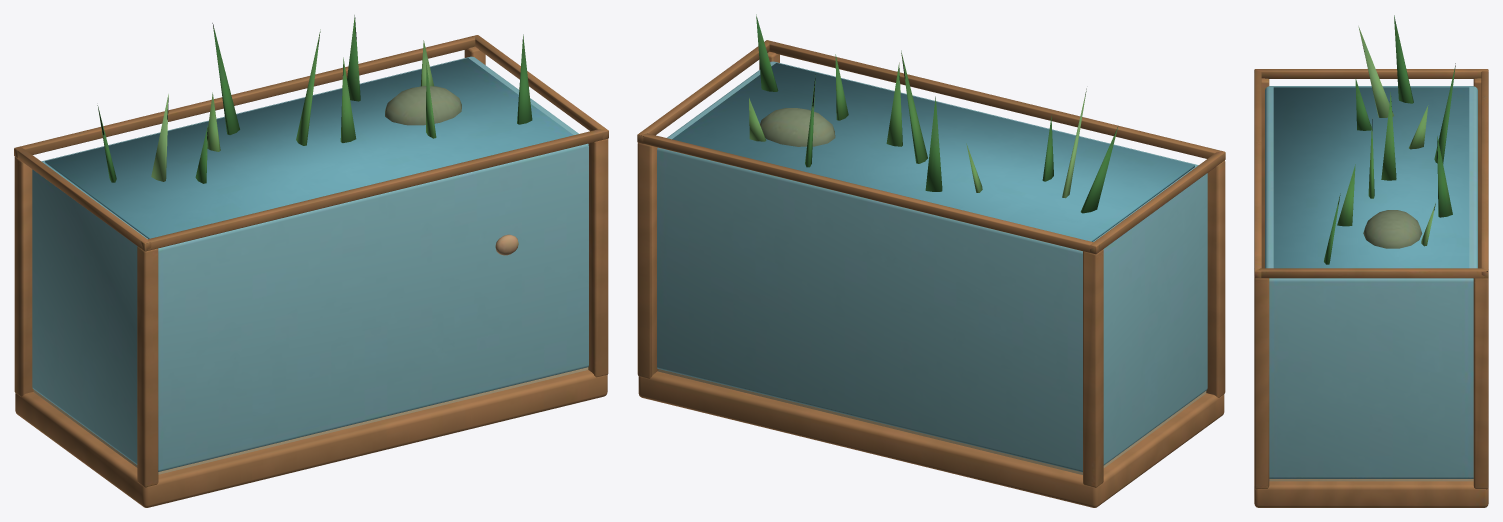
File: keepsake-guppy-tank.glb
The picture shows the model from 3 angles, left to right: view 1: azimuth 30°, elevation 25°; view 2: azimuth 150°, elevation 25°; view 3: azimuth 270°, elevation 25°; orthographic projection. The views are drawn at different scales.
Visible parts, largest first — view 1: keepsake-guppy-tank; view 2: keepsake-guppy-tank; view 3: keepsake-guppy-tank.
Part boxes in pixels (x1,y1,x2,y2): keepsake-guppy-tank: (14, 15, 608, 507); keepsake-guppy-tank: (637, 14, 1225, 507); keepsake-guppy-tank: (1254, 15, 1488, 507).
Size of the model in its own units: 0.45 by 0.3373 by 0.22.
Materials: 1 (1 with a texture image).
